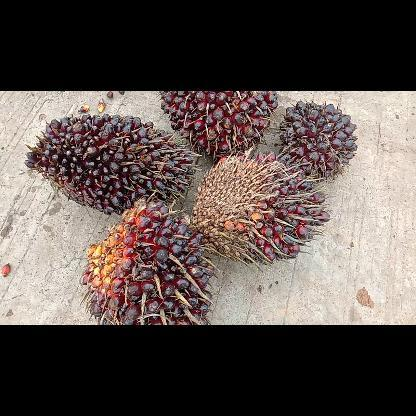TBS mentah: (23, 113, 198, 217), (80, 198, 216, 322), (192, 148, 330, 268), (158, 90, 276, 158), (278, 98, 356, 180)
